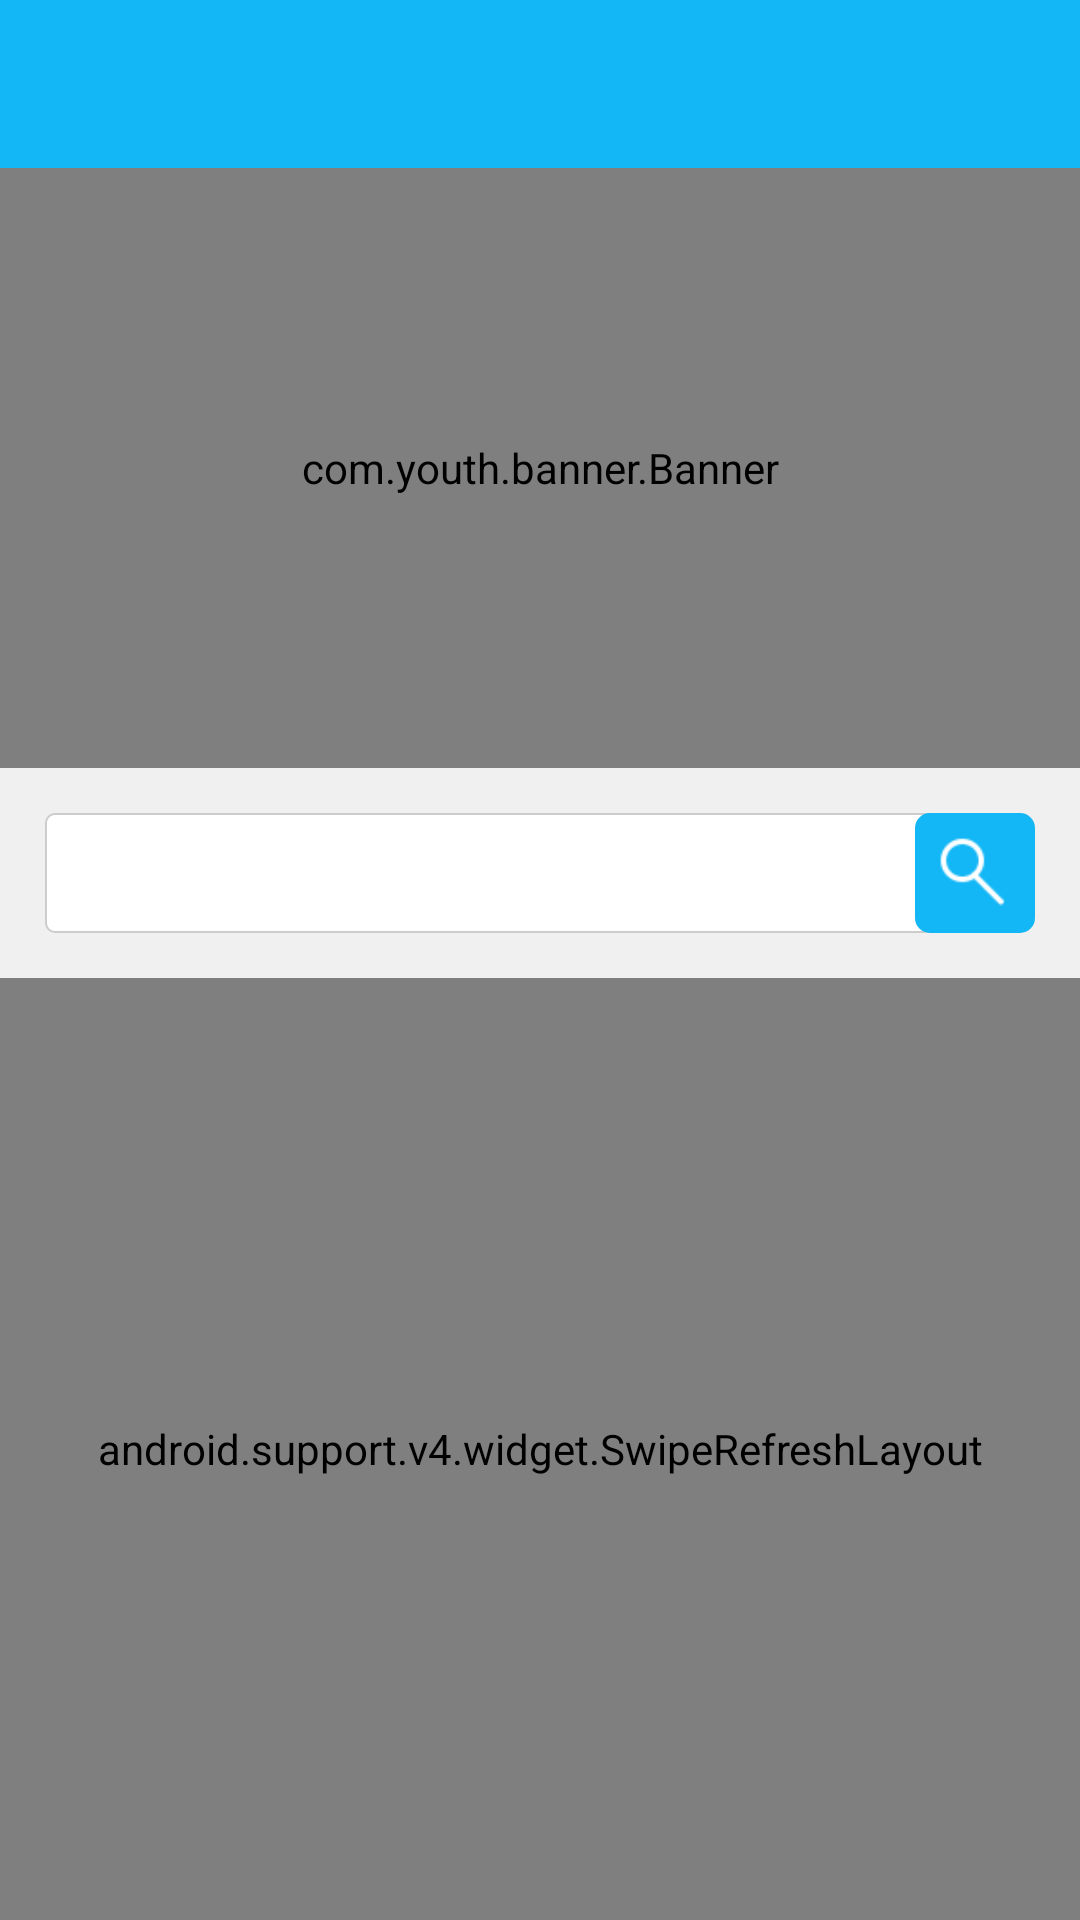

Named icons in this screenshot (1080 x 1920) and their bounding boxes, (x1, y1, x2, y2):
search: (915, 813, 1035, 933)
